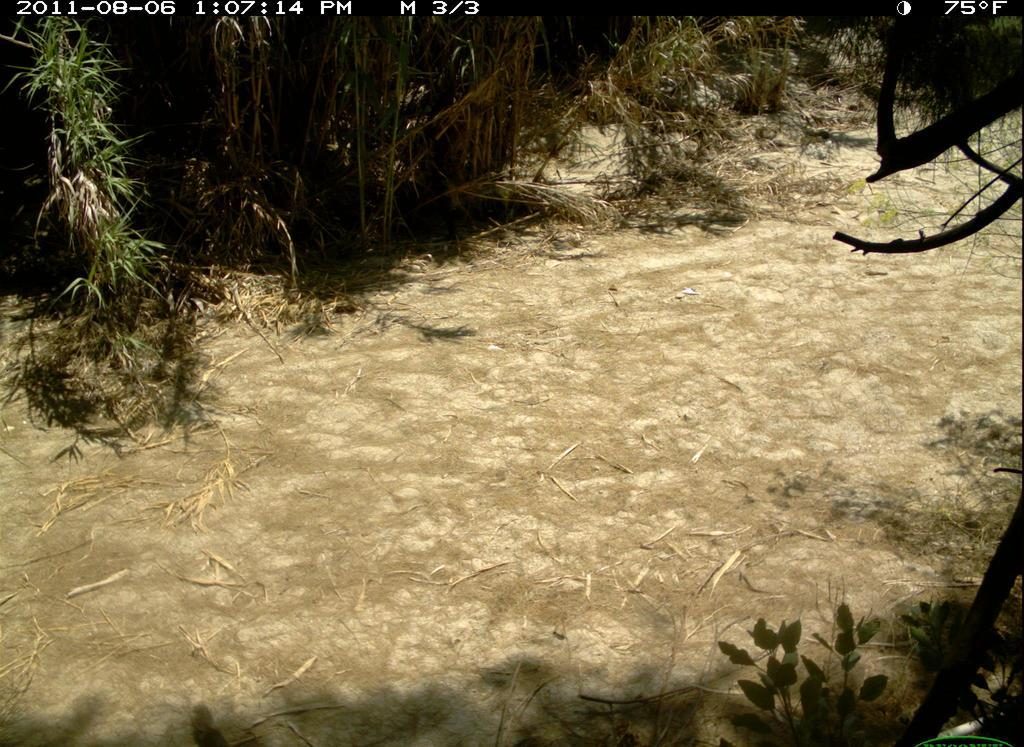squirrel: (181, 697, 239, 747)
